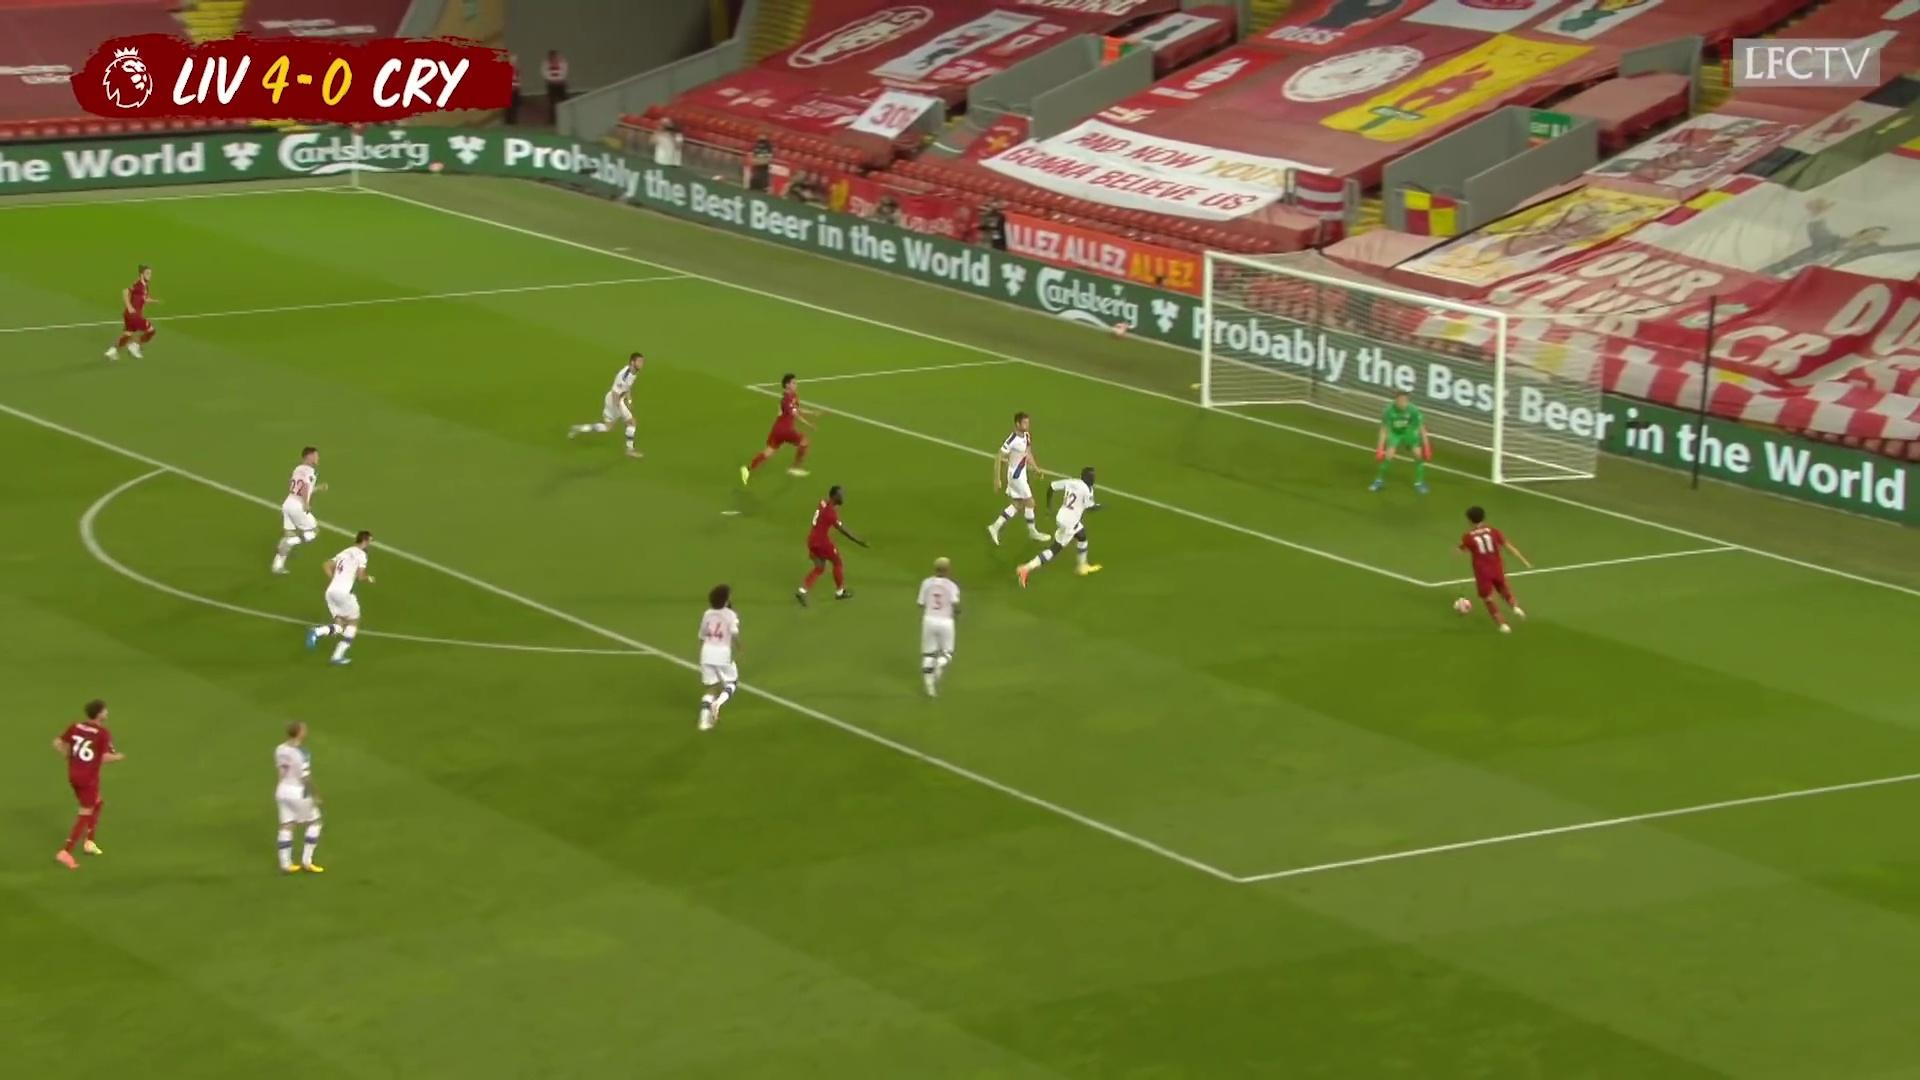ball: (1450, 593, 1475, 618)
goalkeeper: (1364, 388, 1438, 497)
player: (49, 692, 128, 873), (1015, 463, 1106, 592), (1447, 502, 1533, 638), (301, 530, 380, 672), (738, 369, 828, 487), (264, 719, 329, 880), (564, 347, 651, 463), (793, 483, 871, 612), (690, 578, 751, 736), (986, 410, 1054, 549), (264, 439, 329, 578), (908, 553, 966, 704), (101, 260, 167, 368)
